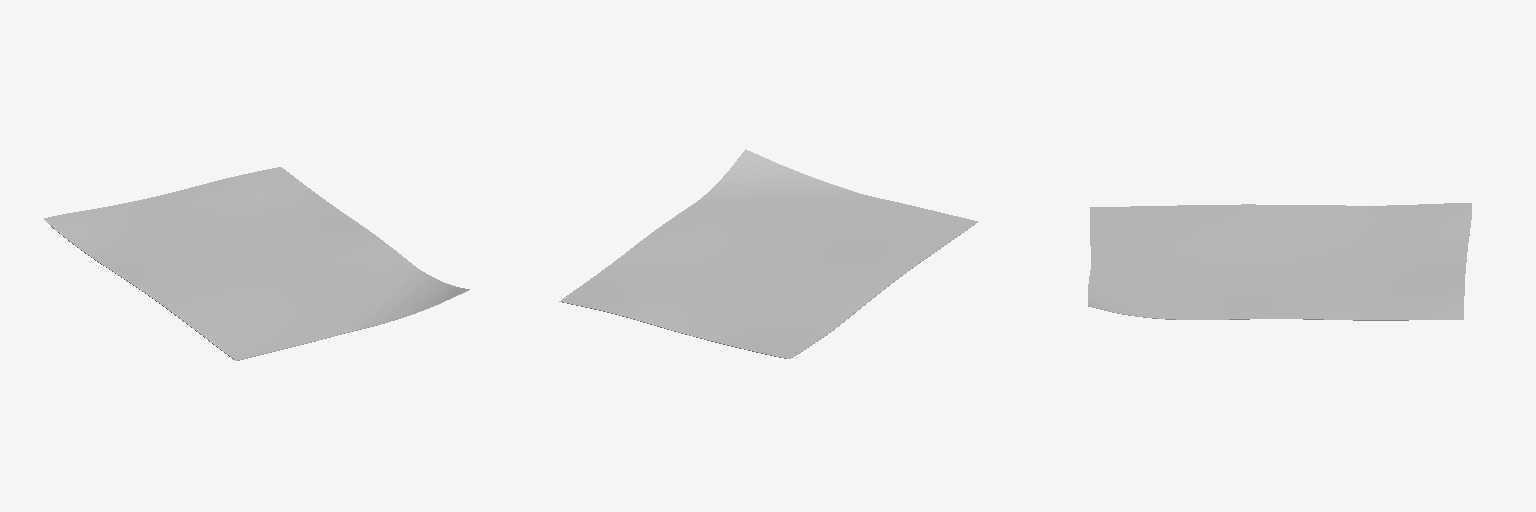
File: statement.obj
The picture shows the model from 3 angles: view 1: azimuth 30°, elevation 25°; view 2: azimuth 150°, elevation 25°; view 3: azimuth 270°, elevation 25°; orthographic projection.
Parts seen in each view (by area): view 1: Plane; view 2: Plane; view 3: Plane.
Boxes of the visible parts, x1=… form: Plane: x1=44, y1=167, x2=469, y2=360; Plane: x1=559, y1=149, x2=977, y2=358; Plane: x1=1088, y1=203, x2=1471, y2=320.
Size of the model in its own units: 2.89 by 0.179 by 4.07.